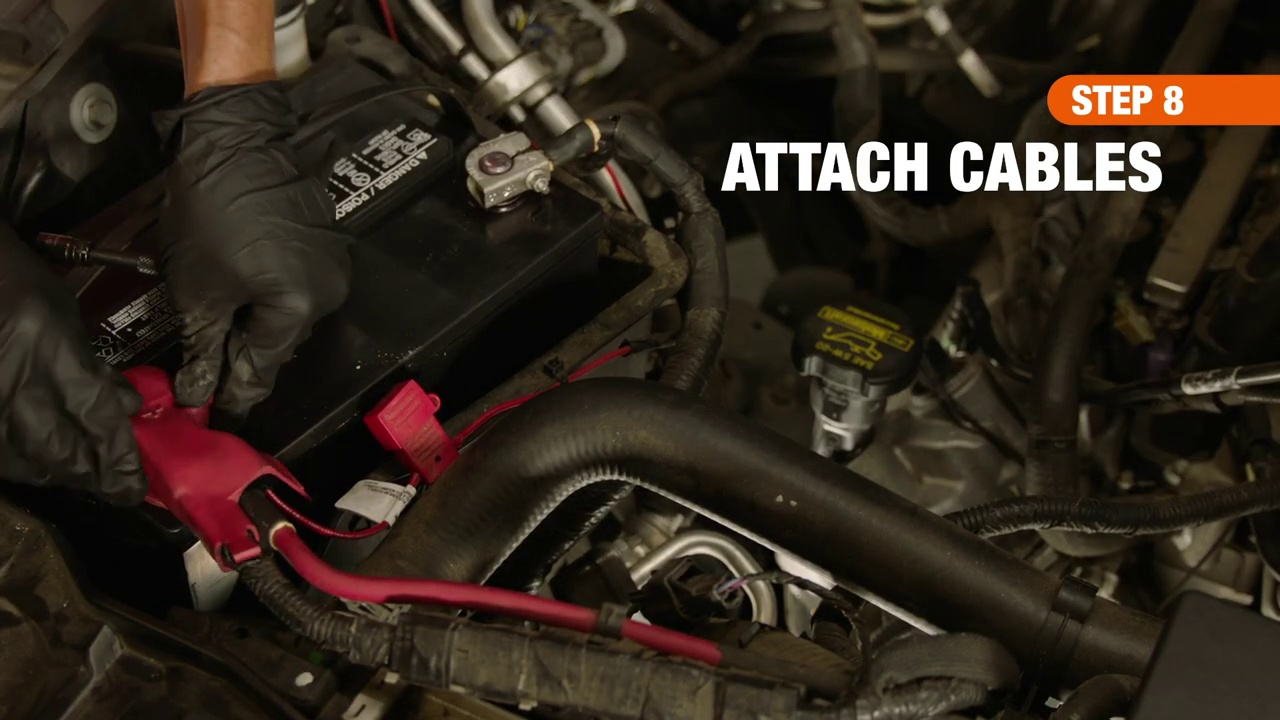battery: (16, 35, 603, 529)
neg_connected: (409, 109, 595, 215)
pos_connected: (89, 355, 296, 553)
pos_touched: (1, 267, 313, 538)
